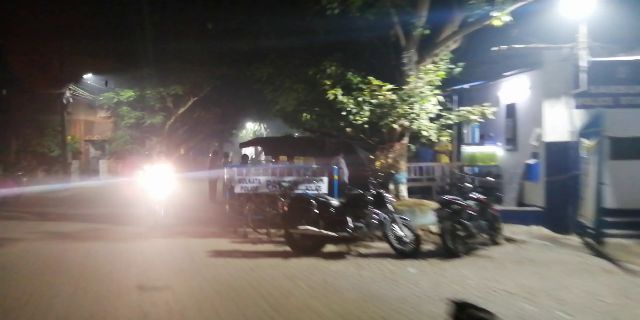Motorbike: (282, 173, 418, 268), (436, 184, 505, 255)
